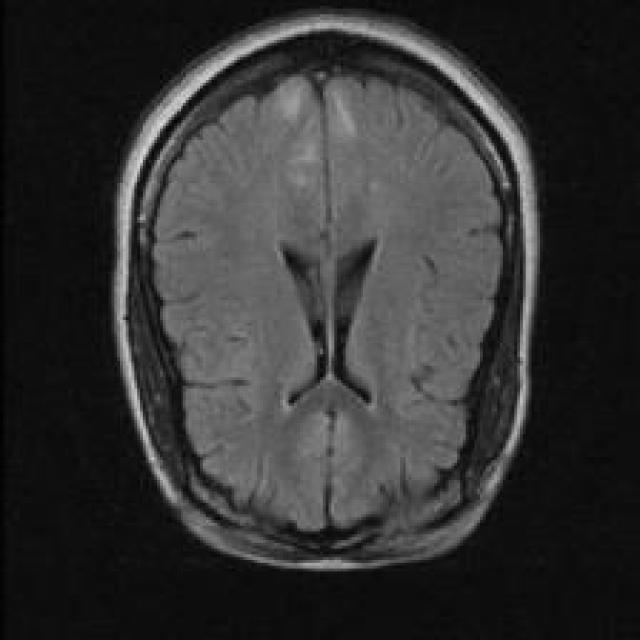no_tumor: (101, 6, 552, 580)
